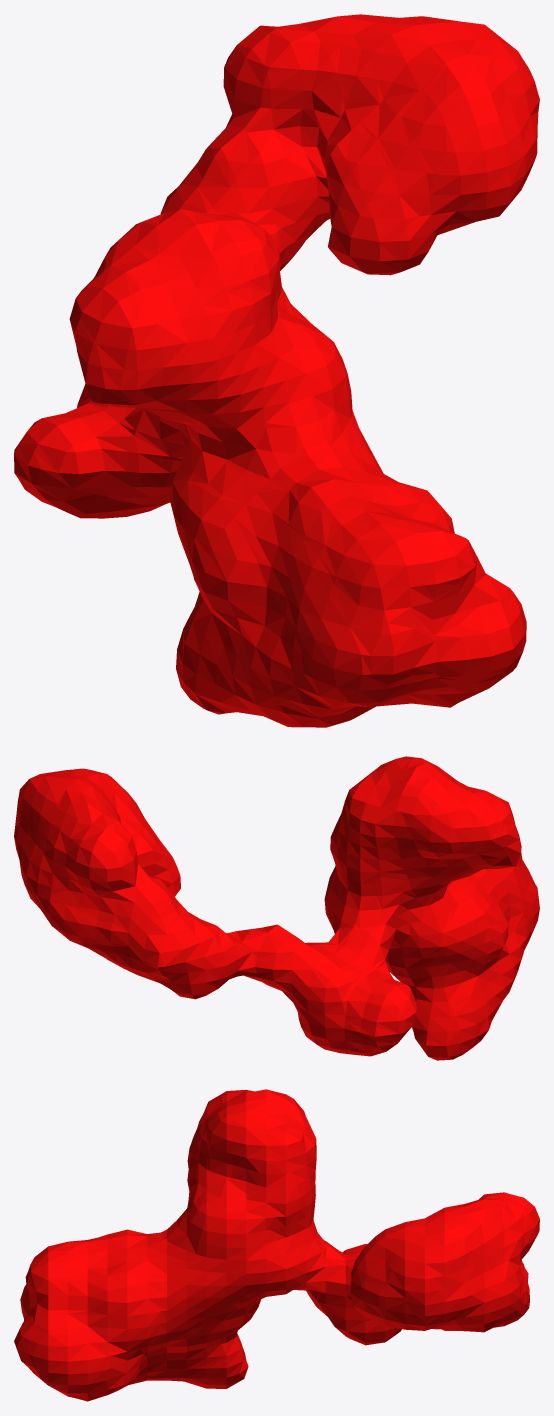
The model's file is rpoH_coarse.dae.
3 views of the same model, one above another, from view 1: azimuth 30°, elevation 25°; view 2: azimuth 150°, elevation 25°; view 3: azimuth 270°, elevation 25° (orthographic). The views are drawn at different scales.
Parts seen in each view (by area): view 1: rpoH; view 2: rpoH; view 3: rpoH.
Part boxes in pixels (x1,y1,x2,y2): rpoH: (14, 14, 539, 727); rpoH: (14, 756, 539, 1060); rpoH: (14, 1089, 539, 1401).
Size of the model in its own units: 83.39 by 61.48 by 97.94.
